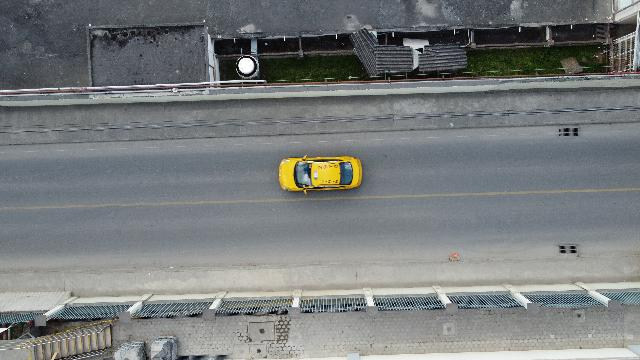Vehiculo: (278, 155, 362, 193)
